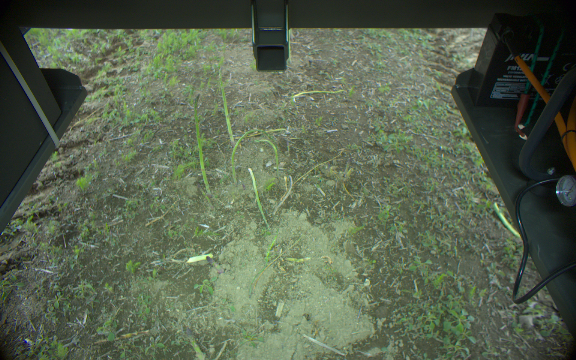aspa: (190, 94, 212, 194), (227, 127, 266, 182), (246, 167, 271, 229), (215, 68, 235, 143), (255, 137, 282, 167)
